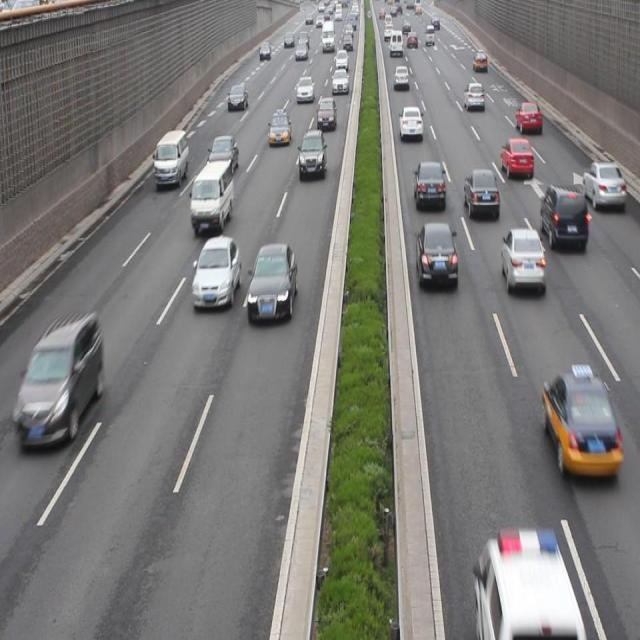car: (17, 312, 103, 447), (541, 362, 621, 478), (246, 243, 296, 321), (191, 232, 239, 310), (539, 183, 586, 250), (500, 226, 544, 292), (413, 220, 455, 286), (581, 162, 624, 212), (462, 168, 500, 221), (412, 157, 444, 209), (498, 137, 534, 182), (297, 129, 325, 179), (205, 136, 238, 171), (398, 106, 423, 142), (514, 102, 541, 134), (268, 108, 290, 147), (316, 97, 336, 131)
truck: (473, 532, 577, 632), (190, 161, 234, 234), (154, 128, 188, 187)
